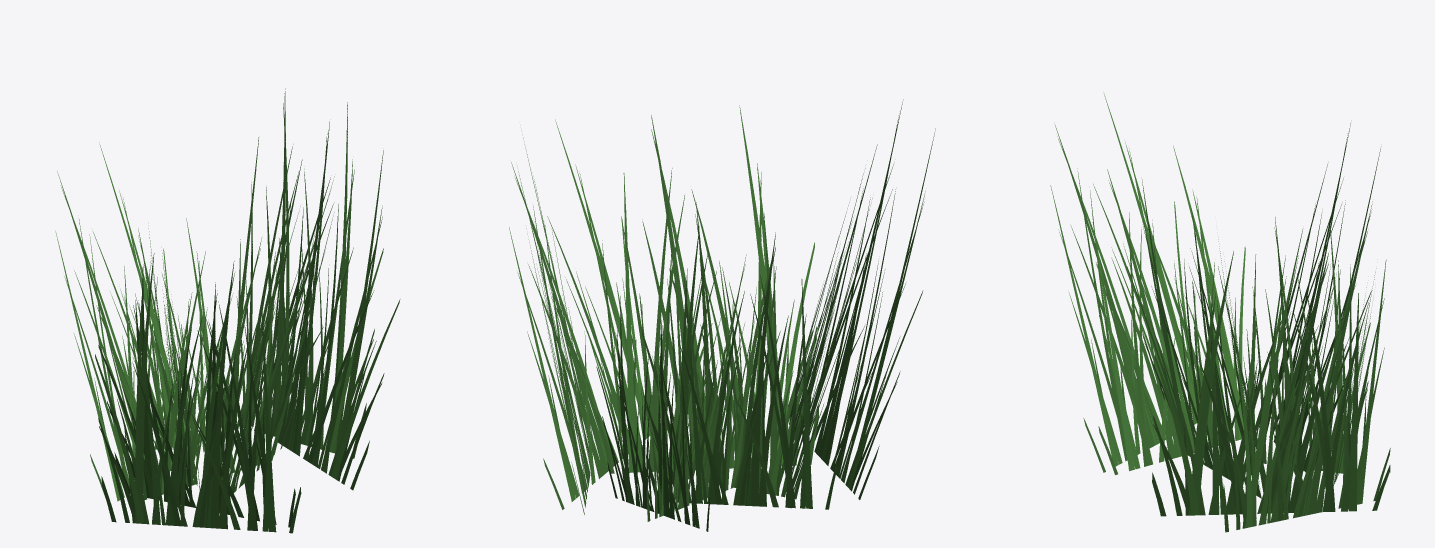
Rendered from grass-clump-b.glb.
3 views of the same model, side by side, from view 1: azimuth 30°, elevation 25°; view 2: azimuth 150°, elevation 25°; view 3: azimuth 270°, elevation 25° (orthographic). The views are drawn at different scales.
Visible parts, largest first — view 1: grass-clump; view 2: grass-clump; view 3: grass-clump.
Boxes of the visible parts, x1,y1,x2,y2 form: grass-clump: [55, 88, 400, 533]; grass-clump: [509, 99, 935, 531]; grass-clump: [1050, 93, 1390, 532].
Size of the model in its own units: 1.09 by 1.03 by 1.04.
Materials: 1 (1 with a texture image).
